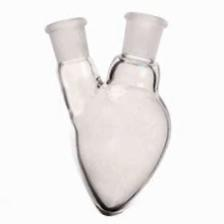Pear shaped flask: (31, 4, 174, 221)
